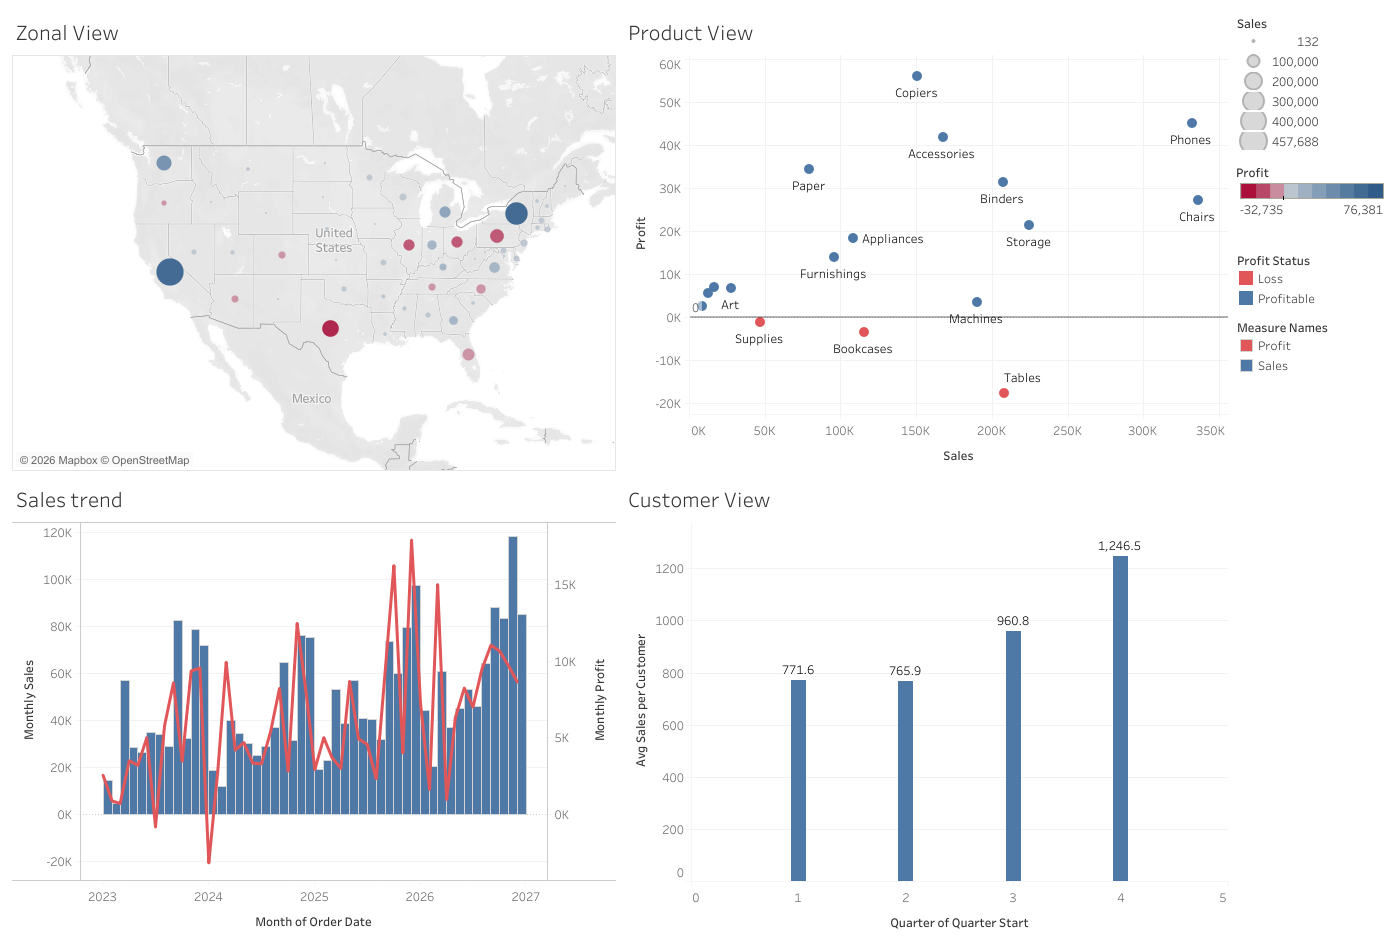

The dashboard page shown, as its layout file describes it:
{"tool":"tableau","page":{"name":"Sales Dashboard","canvas":[1400,950],"ordinal":0},"visuals":[{"type":"worksheet","title":"Zonal View","mark":"Circle","box":[8,8,612,467]},{"type":"worksheet","title":"Product View","mark":"Circle","rows":["Profit"],"cols":["Sales"],"box":[620,8,612,467]},{"type":"legend","title":"Zonal View","param":"[sqlproxy.1g4oo1l181db3414w962j1ryl8wm].[sum:Sales:qk]","box":[1232,8,160,147]},{"type":"legend","title":"Zonal View","param":"[sqlproxy.1g4oo1l181db3414w962j1ryl8wm].[sum:Profit:qk]","box":[1232,155,160,68]},{"type":"legend","title":"Product View","param":"[sqlproxy.1g4oo1l181db3414w962j1ryl8wm].[none:Category:nk]","box":[1232,223,160,22]},{"type":"legend","title":"Product View","param":"[sqlproxy.1g4oo1l181db3414w962j1ryl8wm].[usr:Calculation_0014561457700931:nk]","box":[1232,245,160,67]},{"type":"legend","title":"Sales trend","param":"[sqlproxy.1g4oo1l181db3414w962j1ryl8wm].[:Measure Names]","box":[1232,312,160,67]},{"type":"worksheet","title":"Sales trend","mark":"Bar","rows":["Sales","Profit"],"cols":["Order Date"],"box":[8,475,612,467]},{"type":"worksheet","title":"Customer View","mark":"Bar","rows":["Calculation_0014561462472774"],"cols":["Calculation_0014561462726728"],"box":[620,475,612,467]}]}

Visuals, with their boxes in screenshot pixels (x1, y1, x2, y2), scaled from the page's 1400x950 canvas onto the 1399x949 screenshot:
"Zonal View" worksheet (Circle marks): 8, 8, 620, 474
"Product View" worksheet (Circle marks): 620, 8, 1231, 474
"Zonal View" legend: 1231, 8, 1391, 155
"Zonal View" legend: 1231, 155, 1391, 223
"Product View" legend: 1231, 223, 1391, 245
"Product View" legend: 1231, 245, 1391, 312
"Sales trend" legend: 1231, 312, 1391, 379
"Sales trend" worksheet (Bar marks): 8, 474, 620, 941
"Customer View" worksheet (Bar marks): 620, 474, 1231, 941
